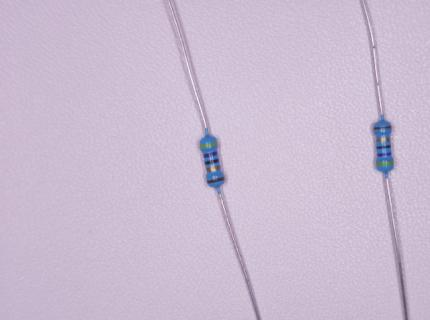Black band: (205, 159, 219, 165), (376, 145, 391, 149)
Brown band: (207, 176, 225, 184), (374, 126, 392, 130)
Gold band: (206, 165, 221, 172), (376, 138, 391, 142)
Violet band: (203, 151, 218, 158), (377, 153, 391, 157)
Yellow band: (199, 142, 218, 149), (376, 161, 394, 166)
